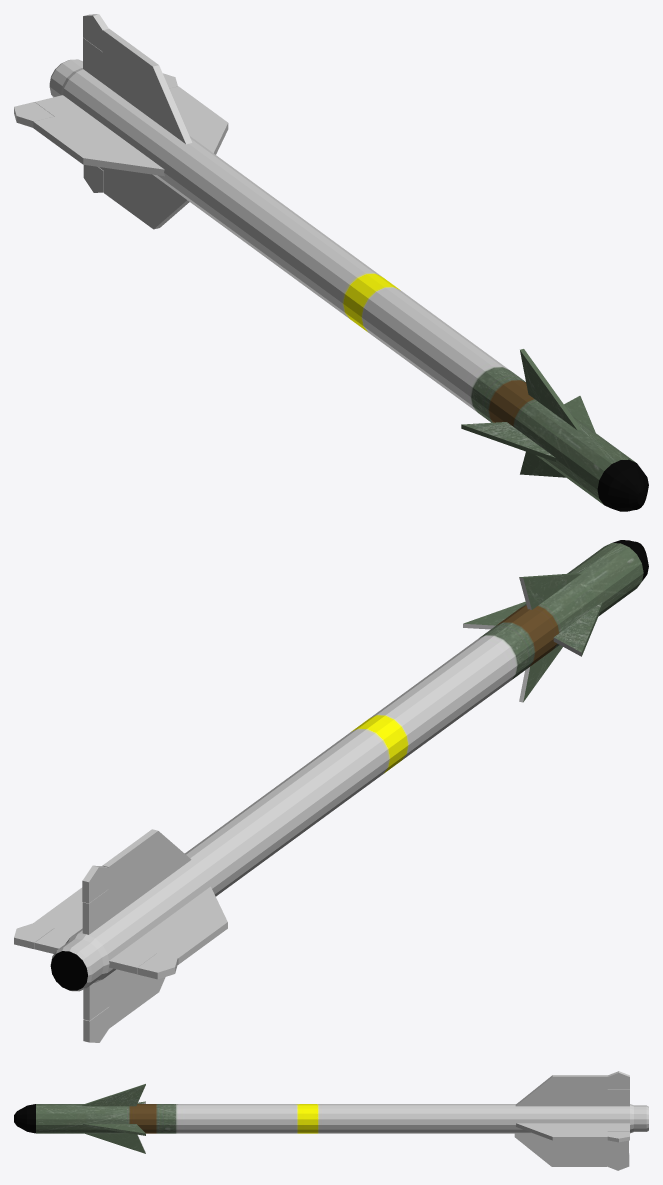
Rendered from aim9m_ekmek.obj.
The picture shows the model from 3 angles, top to bottom: view 1: azimuth 30°, elevation 25°; view 2: azimuth 150°, elevation 25°; view 3: azimuth 270°, elevation 25°; orthographic projection. The views are drawn at different scales.
Visible parts, largest first — view 1: AIM9M_0__AIM9Material, AIM9M_0__Seeker; view 2: AIM9M_0__AIM9Material, AIM9M_0__Seeker; view 3: AIM9M_0__AIM9Material, AIM9M_0__Seeker.
Part boxes in pixels (left/top/right/bottom): AIM9M_0__AIM9Material: left=14, top=14, right=635, bottom=504; AIM9M_0__Seeker: left=597, top=459, right=648, bottom=511; AIM9M_0__AIM9Material: left=14, top=543, right=643, bottom=1042; AIM9M_0__Seeker: left=50, top=540, right=648, bottom=990; AIM9M_0__AIM9Material: left=36, top=1071, right=648, bottom=1170; AIM9M_0__Seeker: left=14, top=1104, right=35, bottom=1133.
Bounding box in the file's own units: 0.7918 × 0.8418 × 4.94.
Materials: 2 (1 with a texture image).
